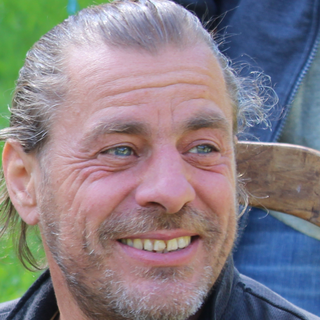eye: (94, 140, 144, 164), (180, 139, 225, 163)
